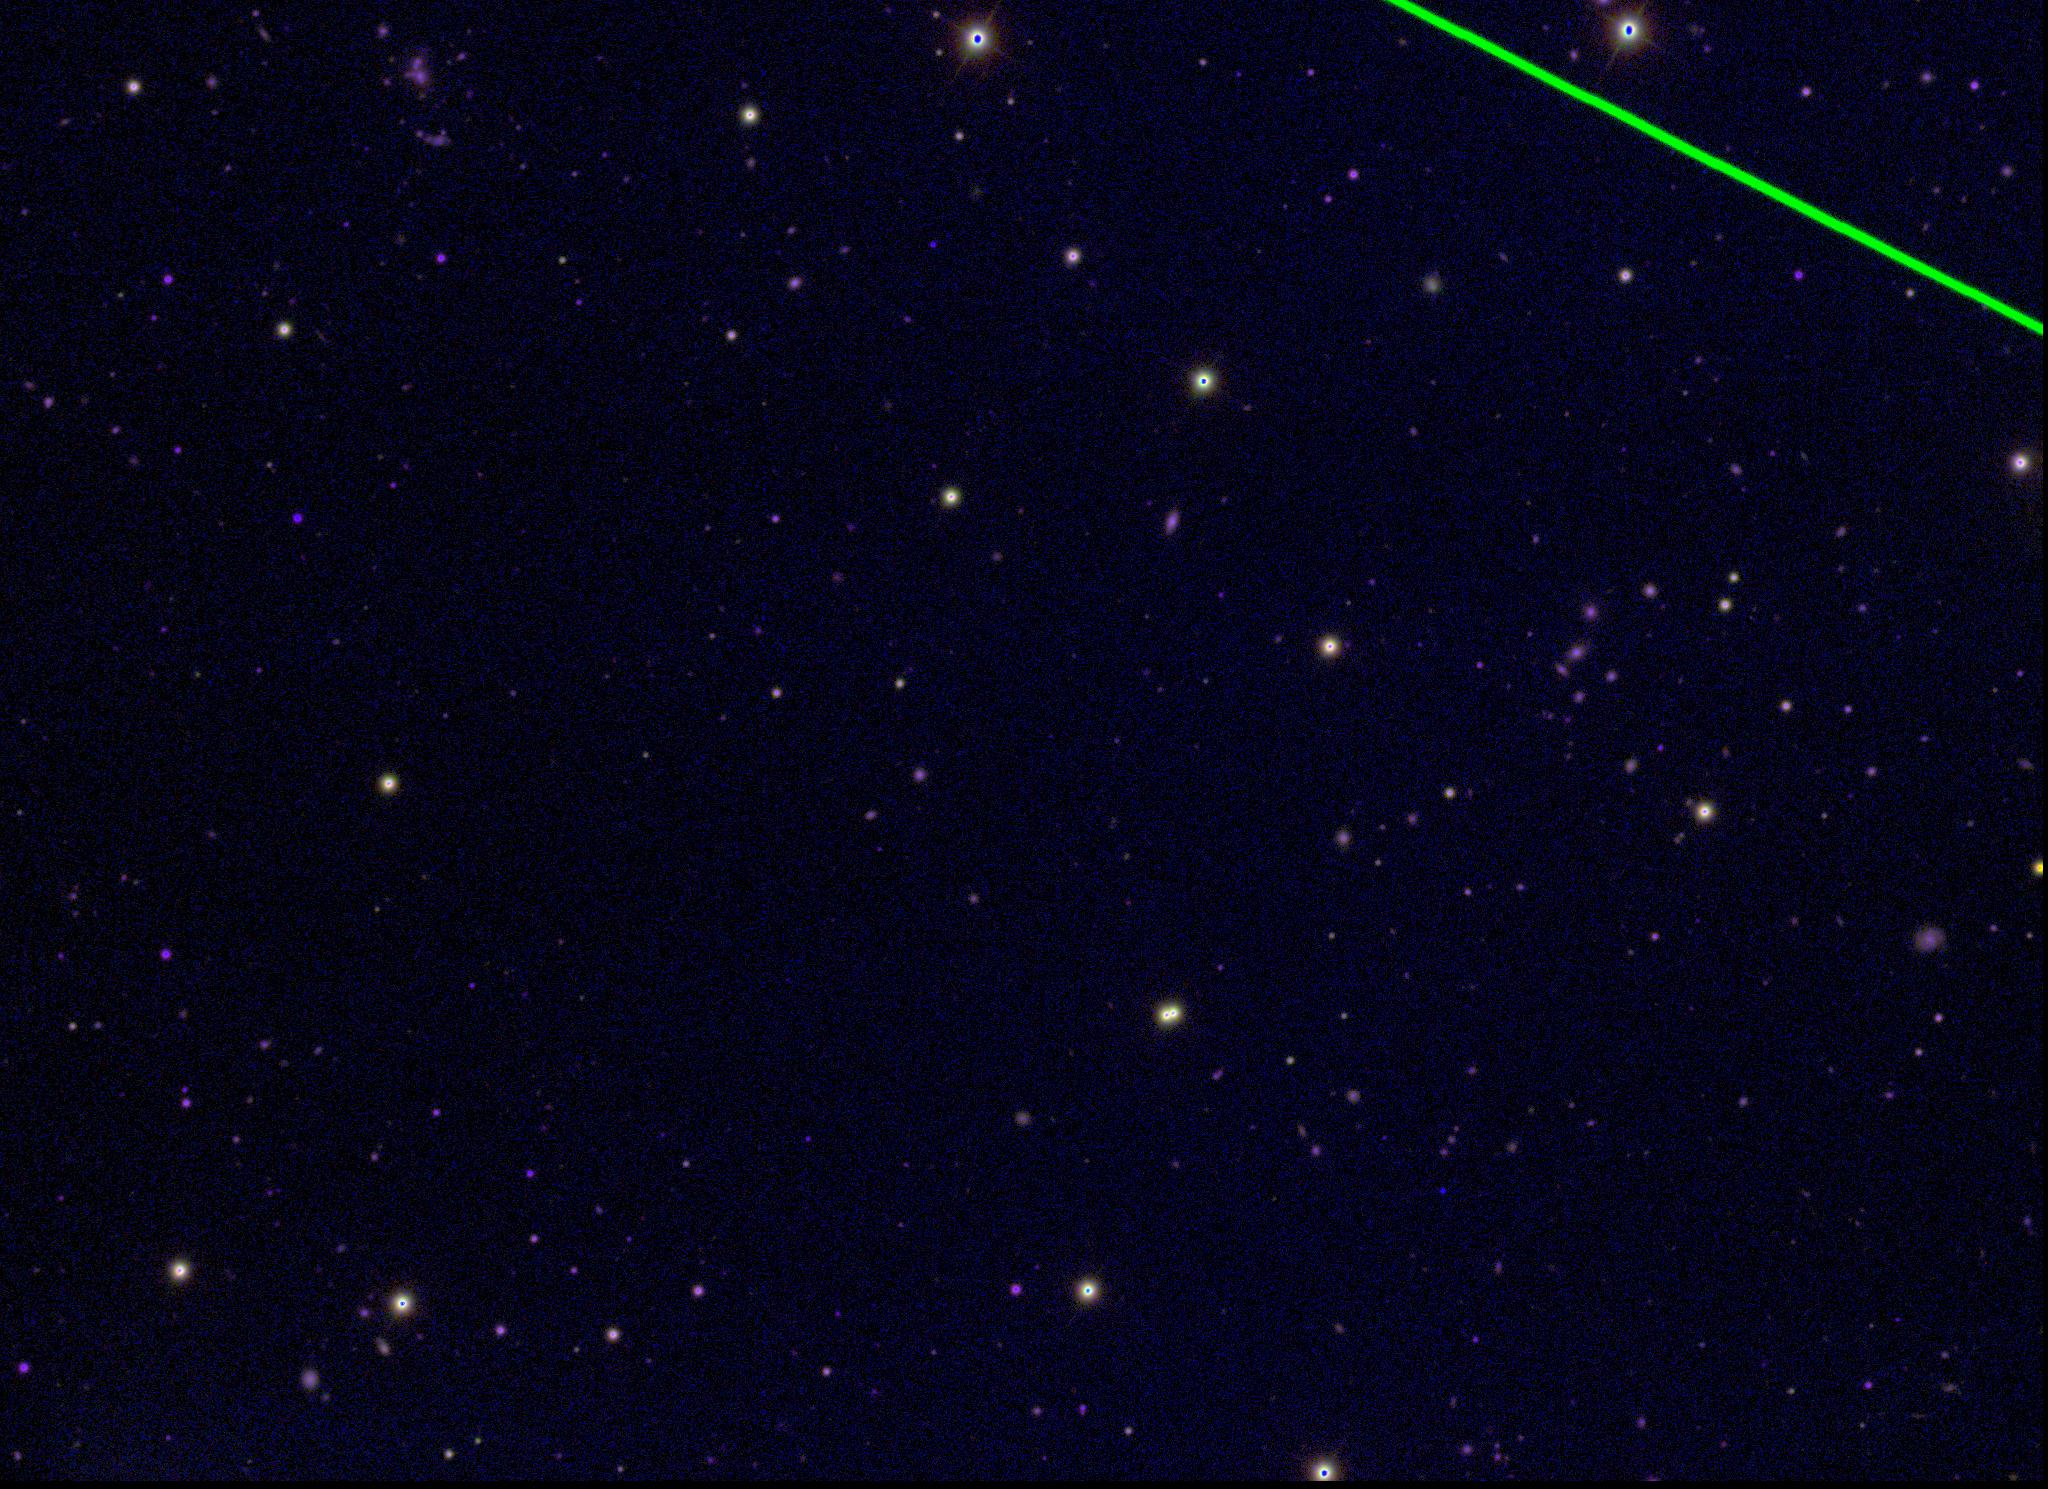L: (1436, 1184, 1450, 1196)
